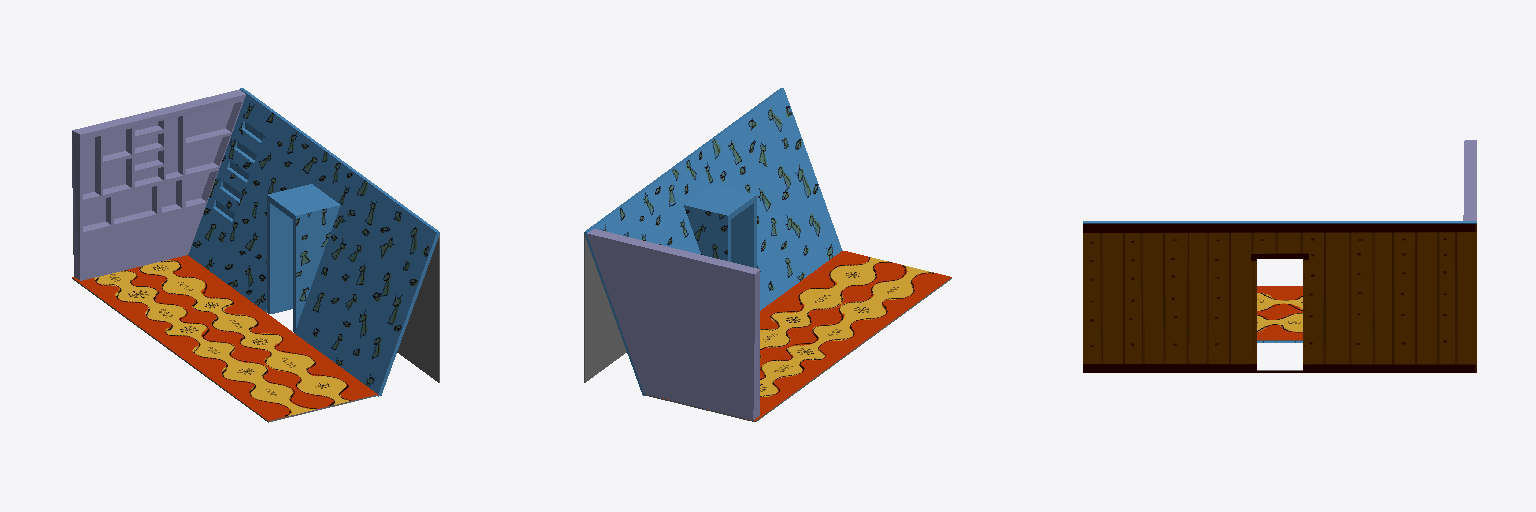
The picture shows the model from 3 angles: view 1: azimuth 30°, elevation 25°; view 2: azimuth 150°, elevation 25°; view 3: azimuth 270°, elevation 25°; orthographic projection.
Visible parts, largest first — view 1: pasted__pCube371; view 2: pasted__pCube371; view 3: pasted__pCube371.
Boxes of the visible parts, x1=… form: pasted__pCube371: x1=72, y1=88, x2=439, y2=422; pasted__pCube371: x1=584, y1=88, x2=951, y2=421; pasted__pCube371: x1=1083, y1=140, x2=1476, y2=372.
Bounding box in the file's own units: 6 × 5.03 × 11.91.
5 materials, 4 textured.